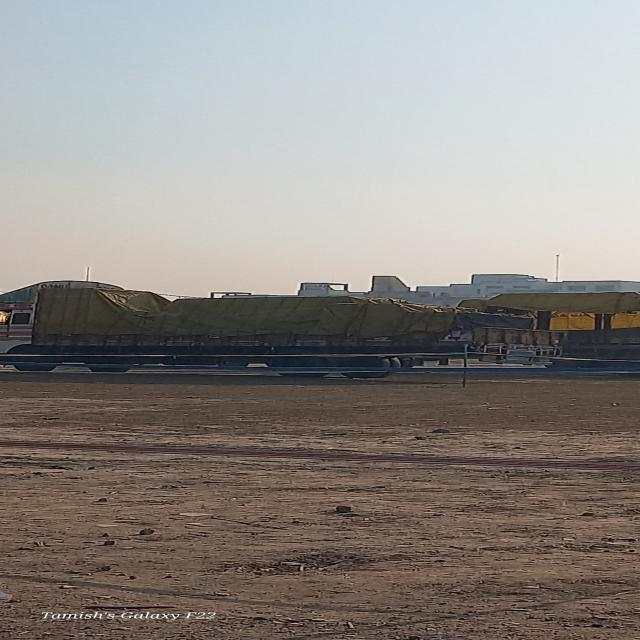covered: (35, 274, 459, 386)
